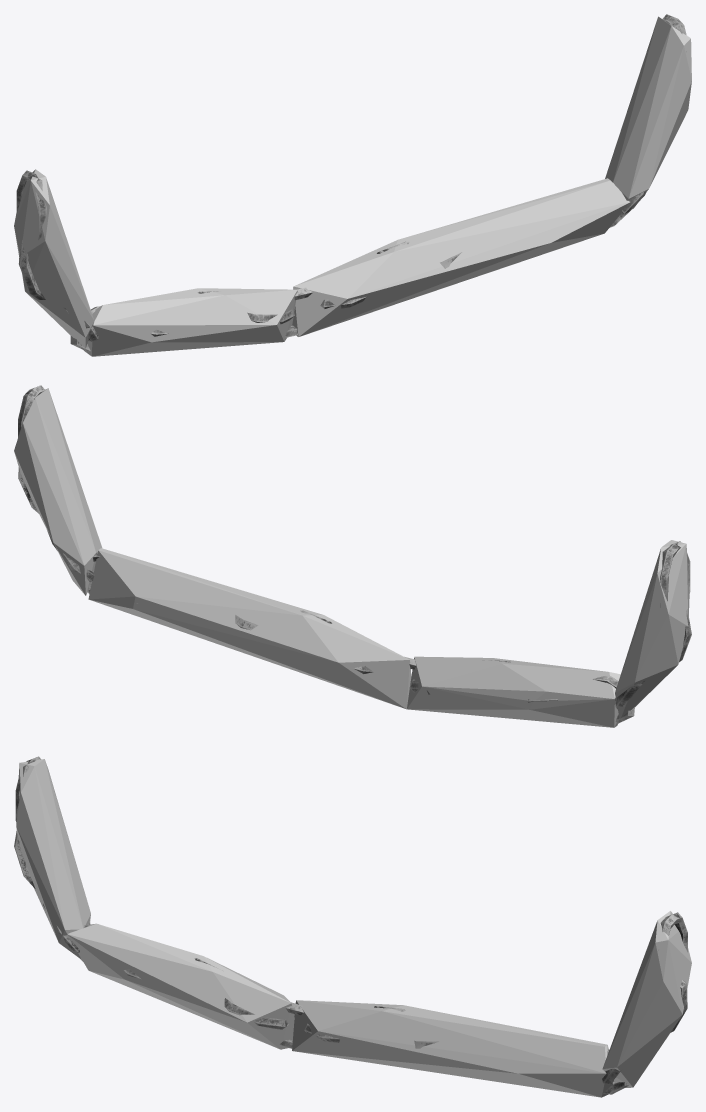
3 views of the same model, one above another, from view 1: azimuth 30°, elevation 25°; view 2: azimuth 150°, elevation 25°; view 3: azimuth 330°, elevation 25° (orthographic).
Visible parts, largest first — view 1: SM_21_ConvexHulls, SM_21; view 2: SM_21_ConvexHulls, SM_21; view 3: SM_21_ConvexHulls, SM_21.
Part boxes in pixels (bbox=[...]): SM_21_ConvexHulls: bbox=[14, 16, 691, 356]; SM_21: bbox=[16, 14, 686, 351]; SM_21_ConvexHulls: bbox=[14, 388, 689, 727]; SM_21: bbox=[18, 385, 691, 723]; SM_21_ConvexHulls: bbox=[16, 759, 691, 1097]; SM_21: bbox=[14, 756, 687, 1094].
Size of the model in its own units: 365 by 29.15 by 119.
Materials: 2 (1 with a texture image).
